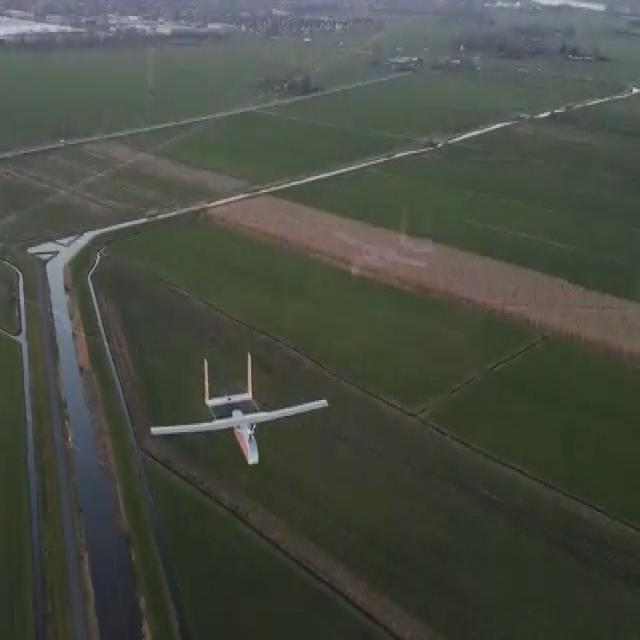iha: (150, 382, 335, 446)
